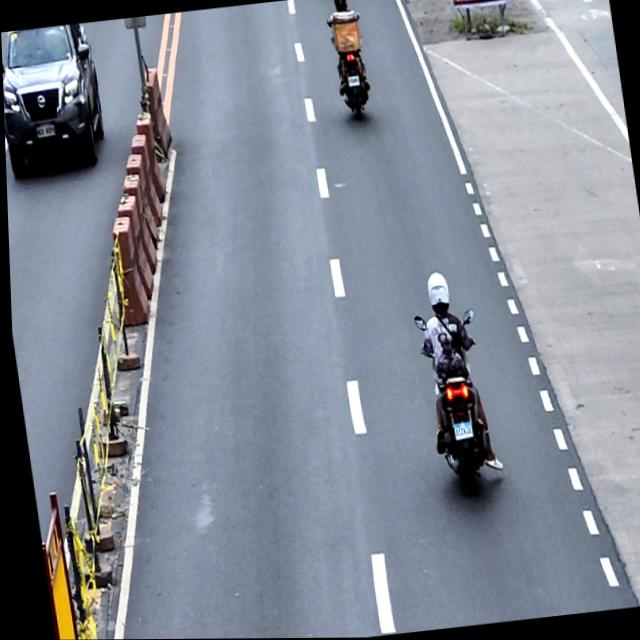Car: (1, 21, 109, 178)
License-Plate: (449, 421, 470, 441), (33, 122, 56, 138), (346, 75, 360, 88)
Motorcycle: (410, 307, 497, 500), (325, 11, 374, 123)
